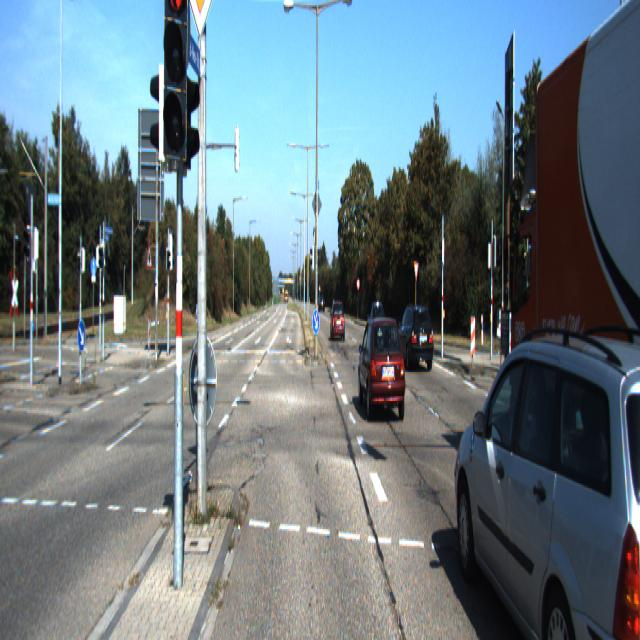Car: (453, 322, 640, 638), (358, 313, 406, 426), (396, 302, 435, 373), (366, 299, 386, 345), (330, 300, 345, 342)
DontCare: (316, 294, 325, 312)
Truck: (499, 0, 639, 571)
